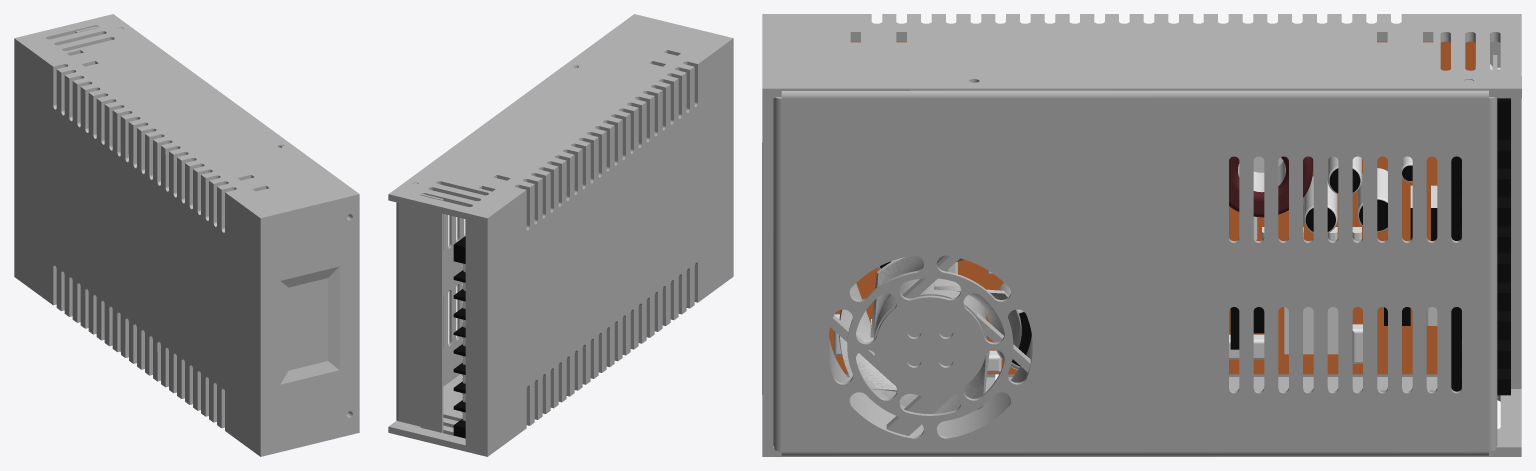
Rendered from fc_psu.glb.
3 renders of one model, left to right at view 1: azimuth 30°, elevation 25°; view 2: azimuth 150°, elevation 25°; view 3: azimuth 270°, elevation 25°, orthographic. The views are drawn at different scales.
Parts seen in each view (by area): view 1: Corpo da fonte; view 2: Corpo da fonte, Tampa da fonte, Bornes da fonte; view 3: Tampa da fonte, Corpo da fonte, Placa da fonte, Ventoinha, Bornes da fonte, COMPOUND002, COMPOUND001, COMPOUND, COMPOUND003, COMPOUND007, COMPOUND005, COMPOUND009.
Part boxes in pixels (box(x1,y1,x2,y2)): Corpo da fonte: box(14, 14, 359, 456); Corpo da fonte: box(388, 14, 733, 456); Tampa da fonte: box(396, 65, 578, 432); Bornes da fonte: box(453, 236, 465, 438); Tampa da fonte: box(773, 55, 1497, 456); Corpo da fonte: box(762, 14, 1521, 456); Placa da fonte: box(828, 41, 1500, 374); Ventoinha: box(828, 255, 1032, 436); Bornes da fonte: box(1451, 98, 1510, 395); COMPOUND002: box(840, 283, 896, 390); COMPOUND001: box(881, 358, 985, 413); COMPOUND: box(953, 290, 1020, 360); COMPOUND003: box(874, 255, 961, 329); COMPOUND007: box(870, 256, 964, 337); COMPOUND005: box(839, 285, 896, 391); COMPOUND009: box(873, 278, 986, 339).
Size of the model in its own units: 0.0511 by 0.1152 by 0.215.
